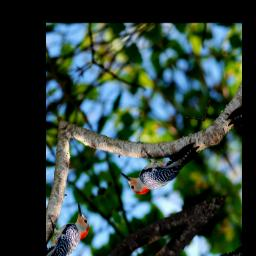Woodpecker: (117, 119, 206, 205)
